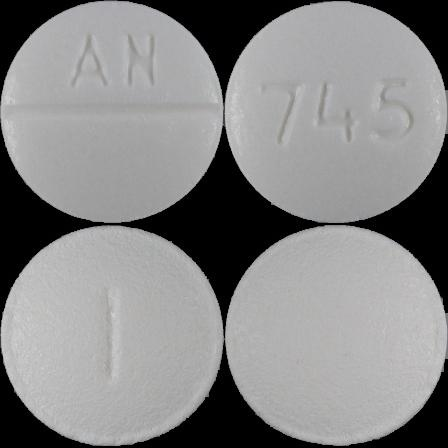61919-047: (0, 0, 224, 224)
